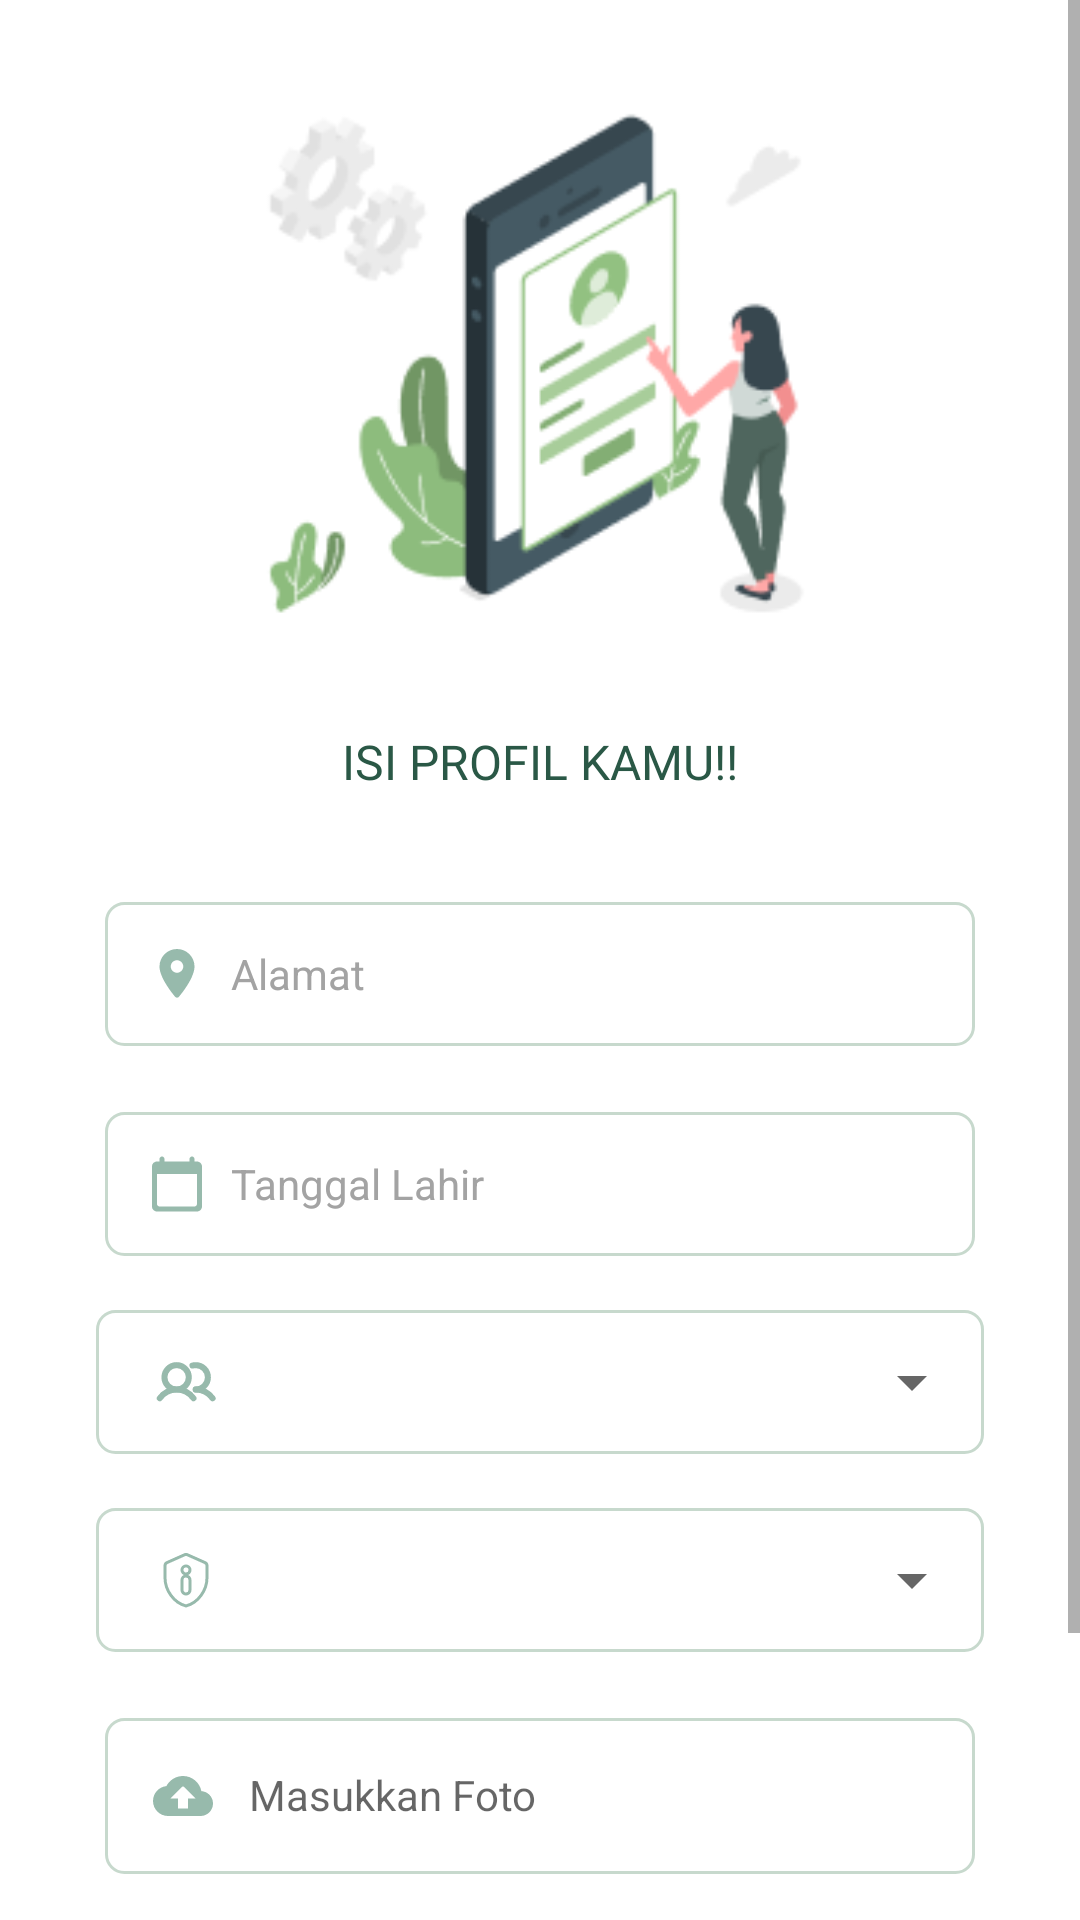

Icons on this 1080px x 1920px Android screen, each with its box as (x1, y1, x2, y2):
privacy soft: (163, 1553, 209, 1608)
user group soft: (156, 1362, 216, 1402)
